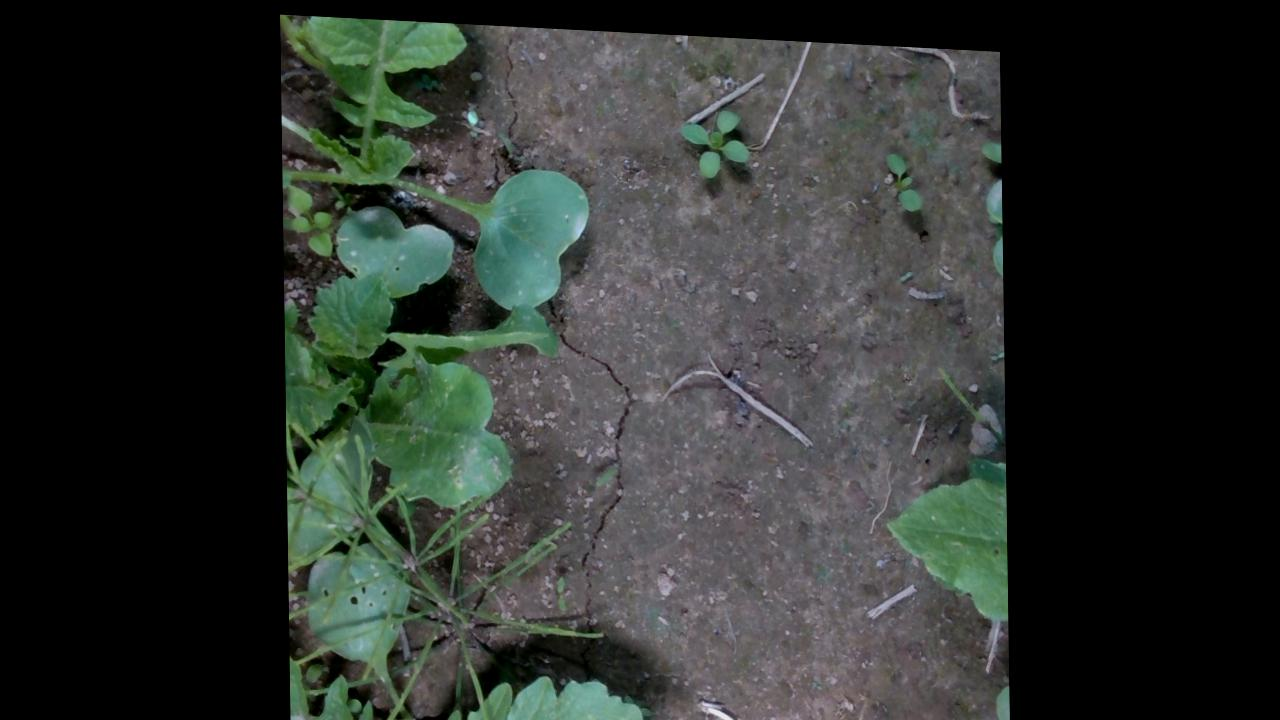weed: (673, 92, 756, 189)
